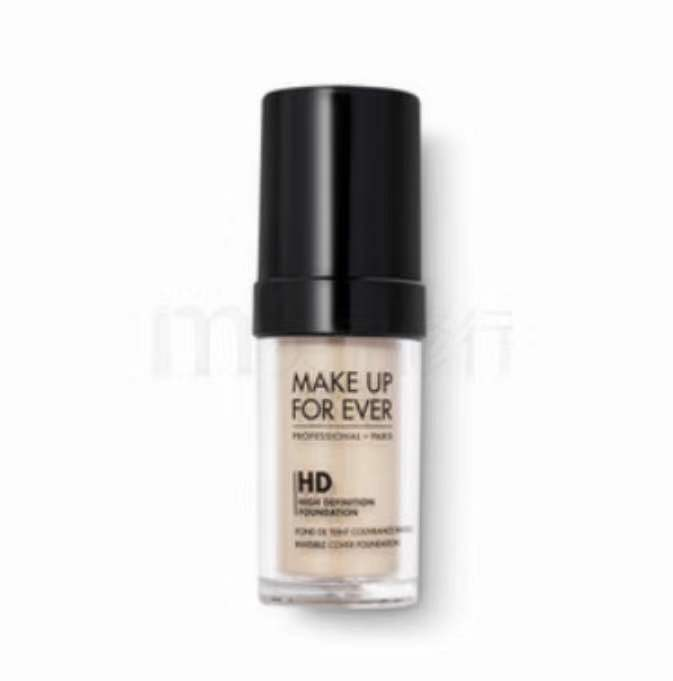cosmetic: (247, 86, 430, 610)
